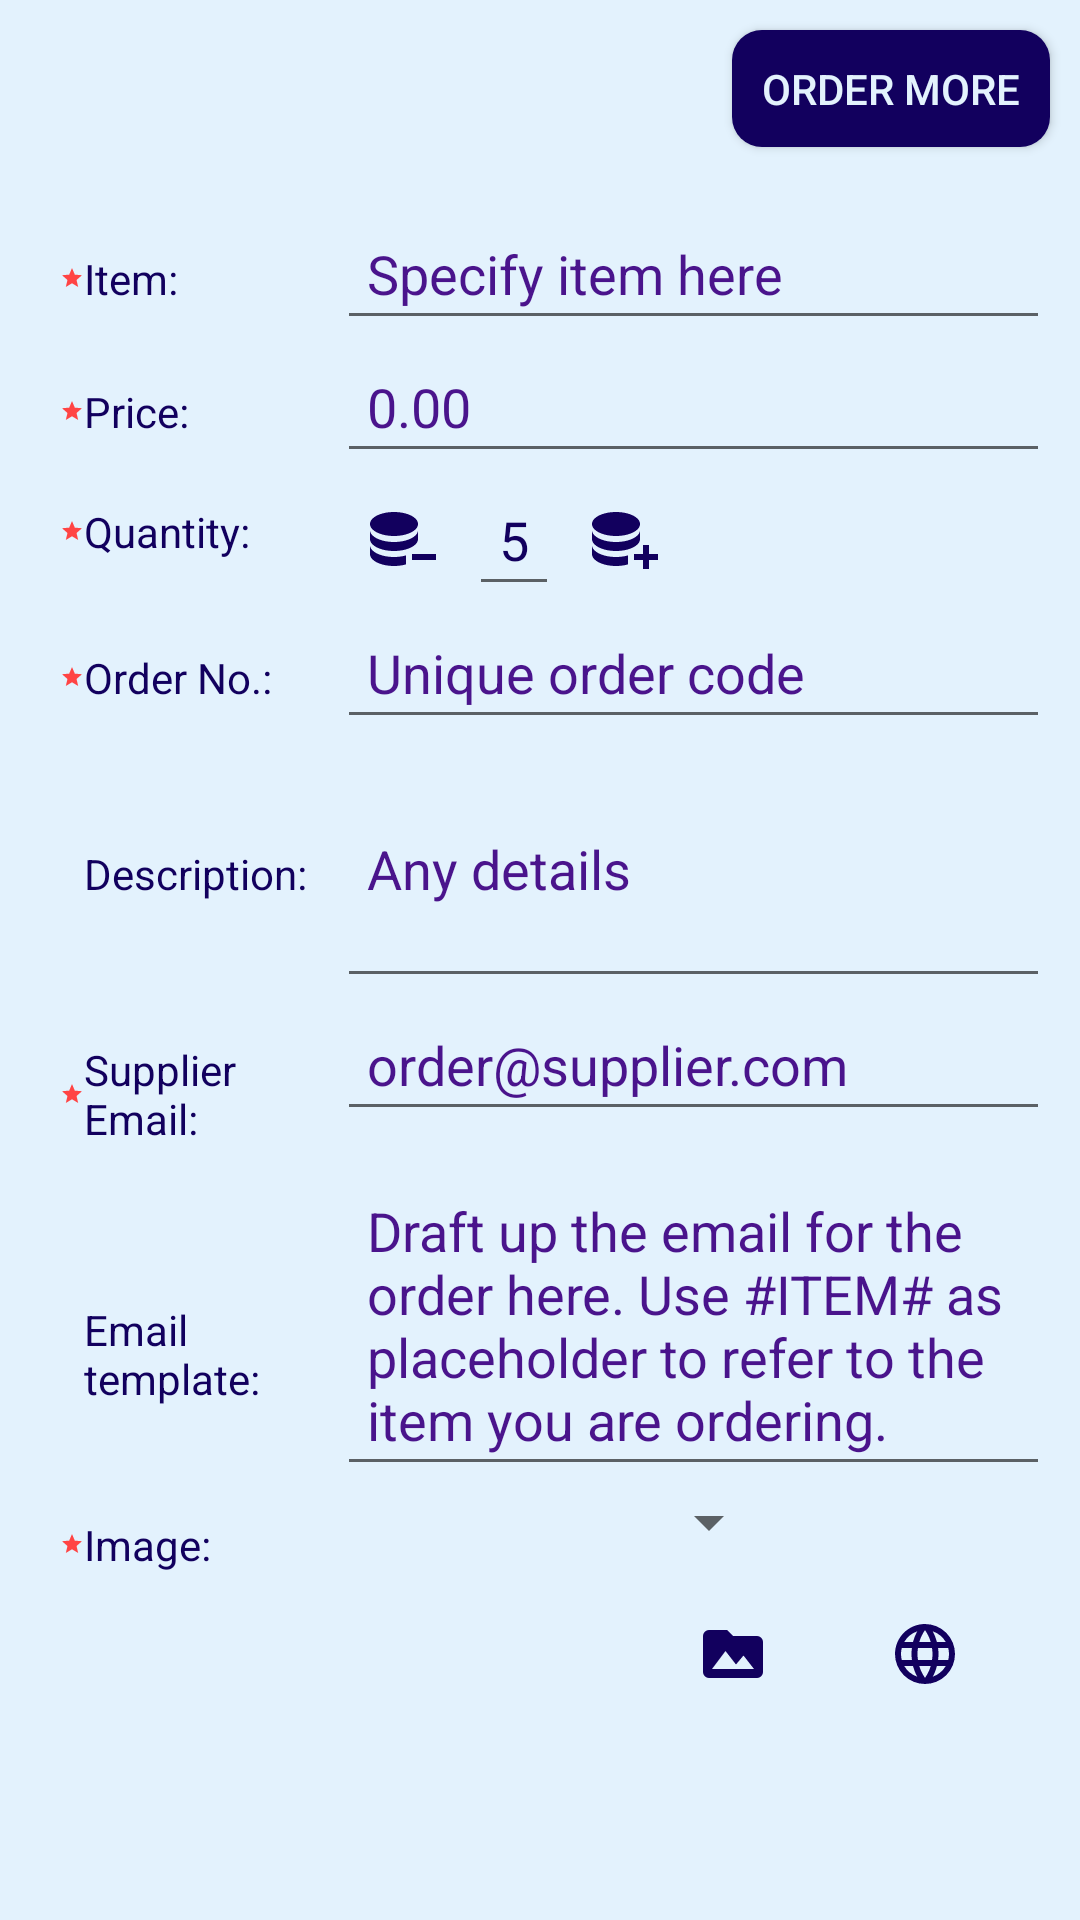

Locate icon controls on the screen. Image size 1080x1920, boxes as [x1=x1, y1=y1, x2=x2, y2=y2].
folder: [x1=703, y1=1630, x2=763, y2=1678]
minus: [x1=370, y1=512, x2=436, y2=566]
plus: [x1=592, y1=512, x2=658, y2=569]
web: [x1=895, y1=1624, x2=955, y2=1684]
